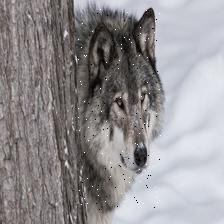WOLF: (77, 9, 161, 213)
